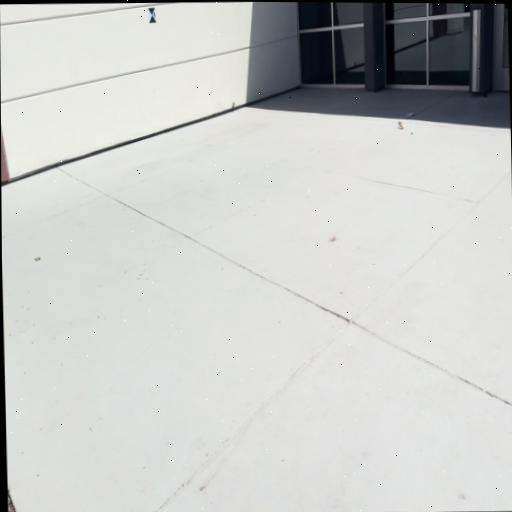target4: (148, 7, 157, 23)
